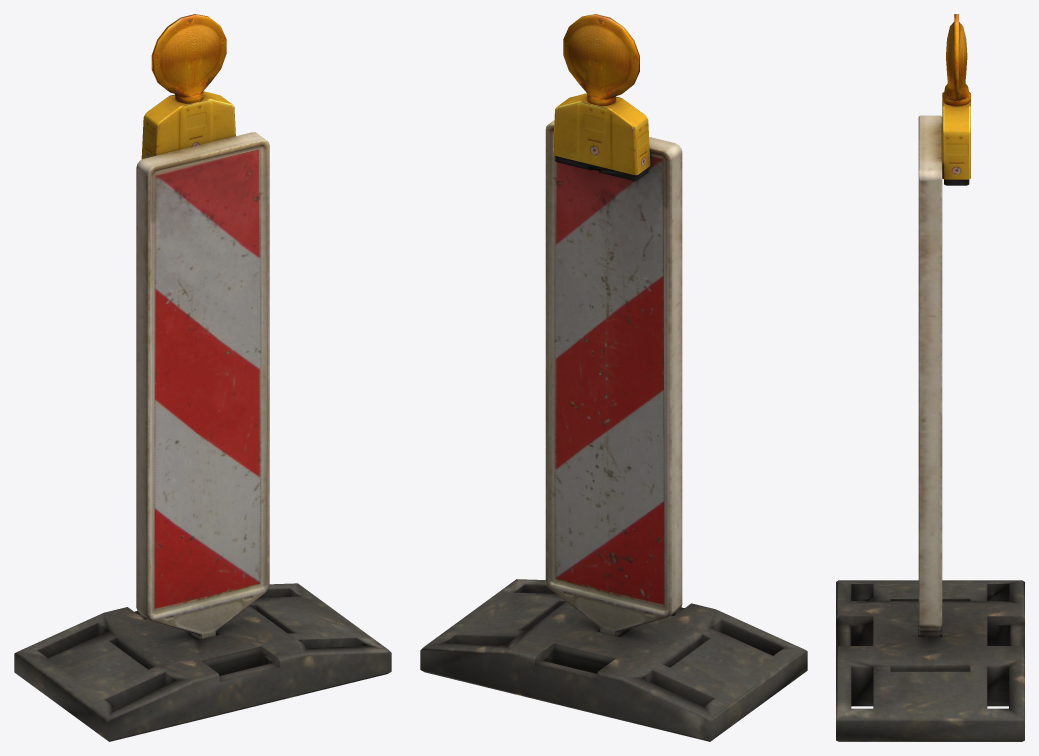
Rendered from absperrbake_01.fbx.
The picture shows the model from 3 angles, left to right: view 1: azimuth 30°, elevation 25°; view 2: azimuth 150°, elevation 25°; view 3: azimuth 270°, elevation 25°; orthographic projection. The views are drawn at different scales.
Visible parts, largest first — view 1: Mesh; view 2: Mesh; view 3: Mesh.
Part boxes in pixels (<box>): Mesh: <box>14,14,391,741</box>; Mesh: <box>420,14,807,741</box>; Mesh: <box>836,14,1024,741</box>.
Bounding box in the file's own units: 70 × 153 × 40.
